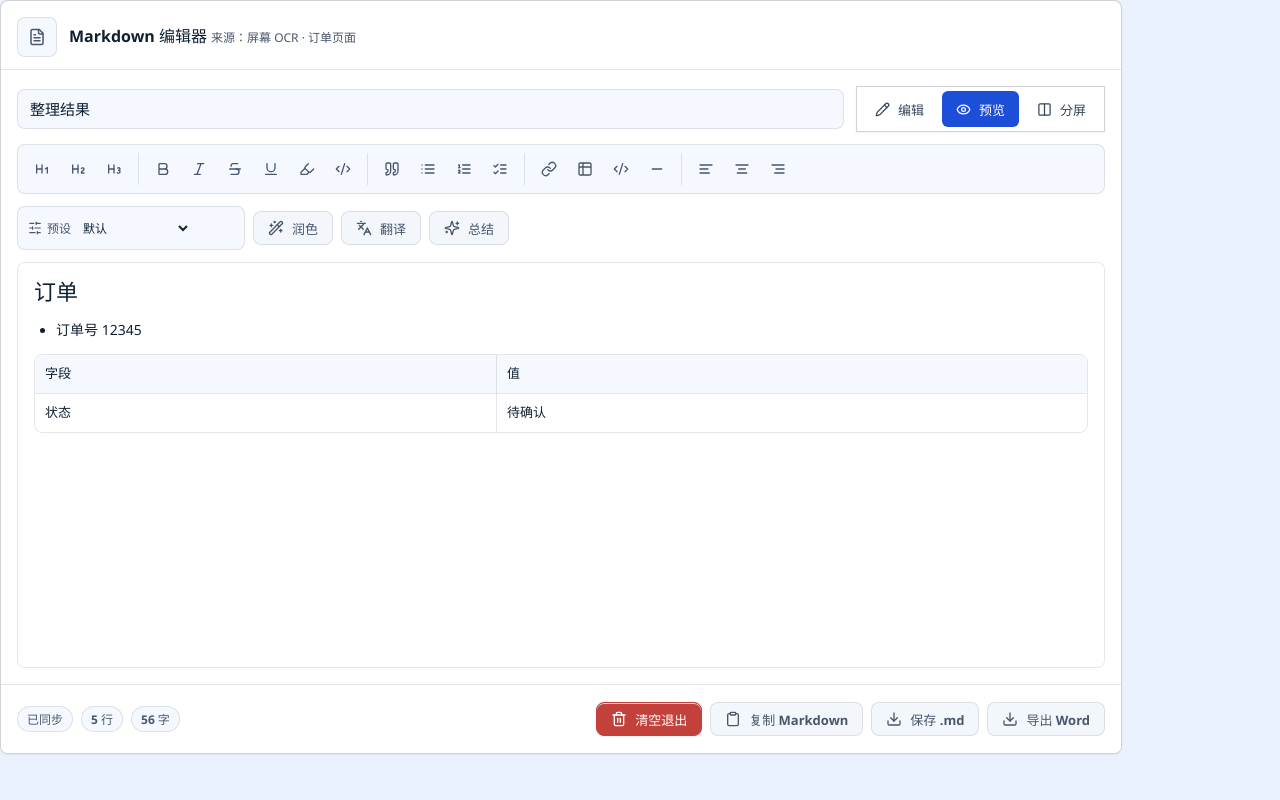
Test: MarkdownEditorShell › uses a centered in-app dialog before clearing and closing the current draft
This screenshot has width=1280, height=800.
Click the button "清空退出". click: (649, 719)
box: [596,702,702,736]
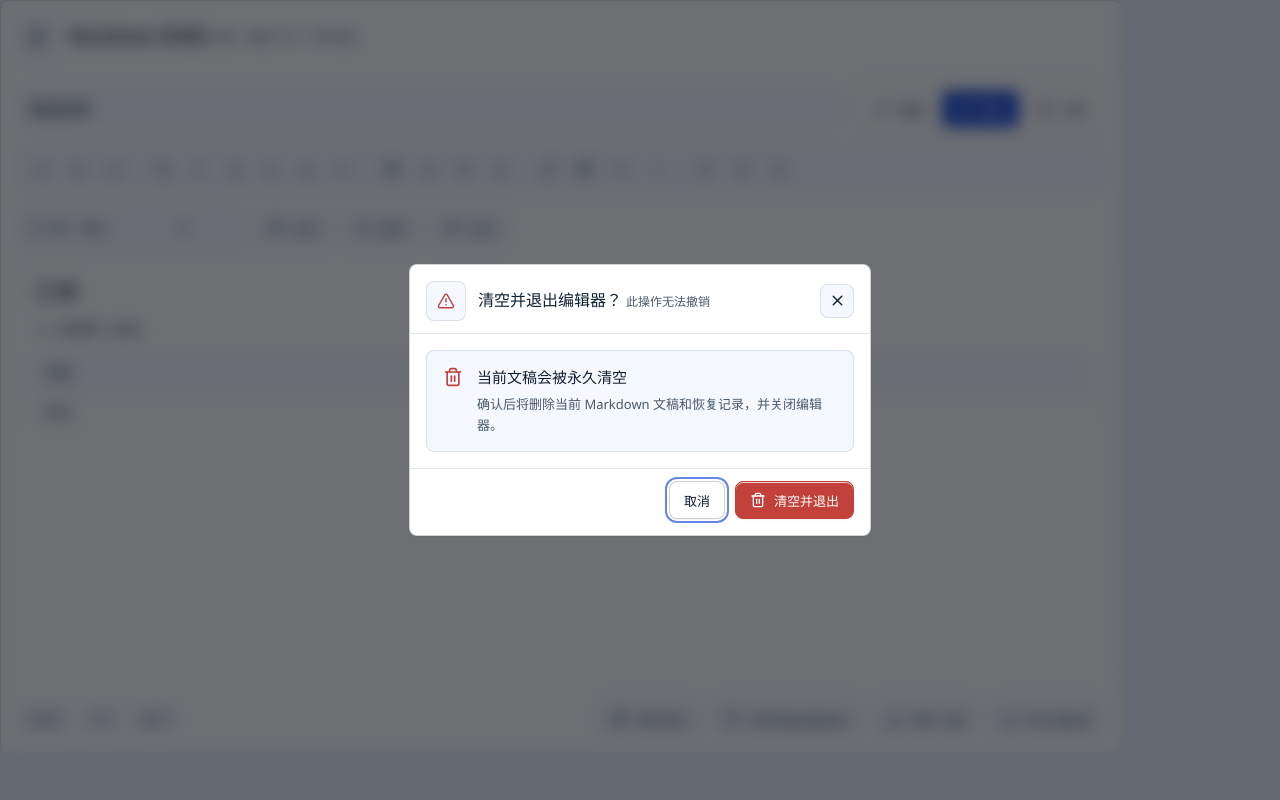
Result: the text "当前文稿会被永久清空" is shown at [477,368,627,388]
Click the button "取消". click: (697, 500)
box: [669,481,725,519]
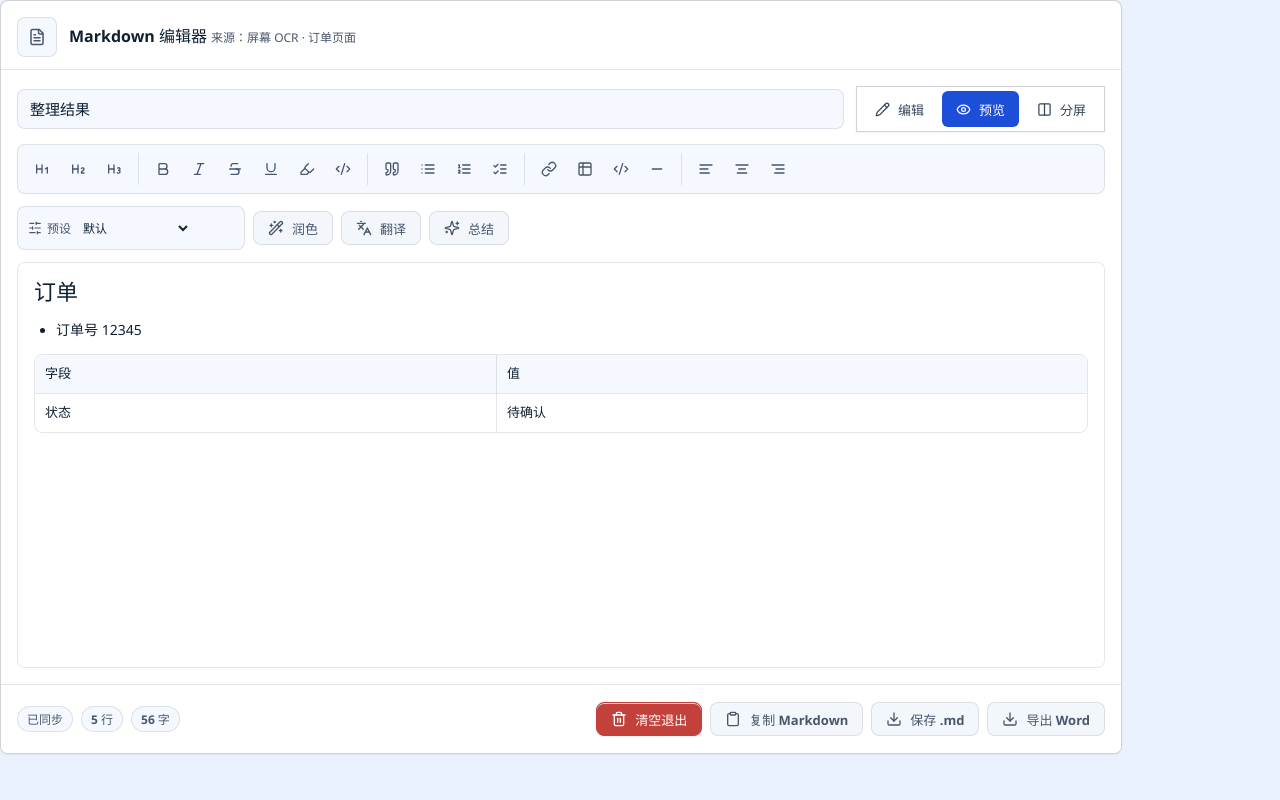
Result: the text "清空并退出编辑器？" is gone
Click the button "清空退出". click: (649, 719)
box: [596,702,702,736]
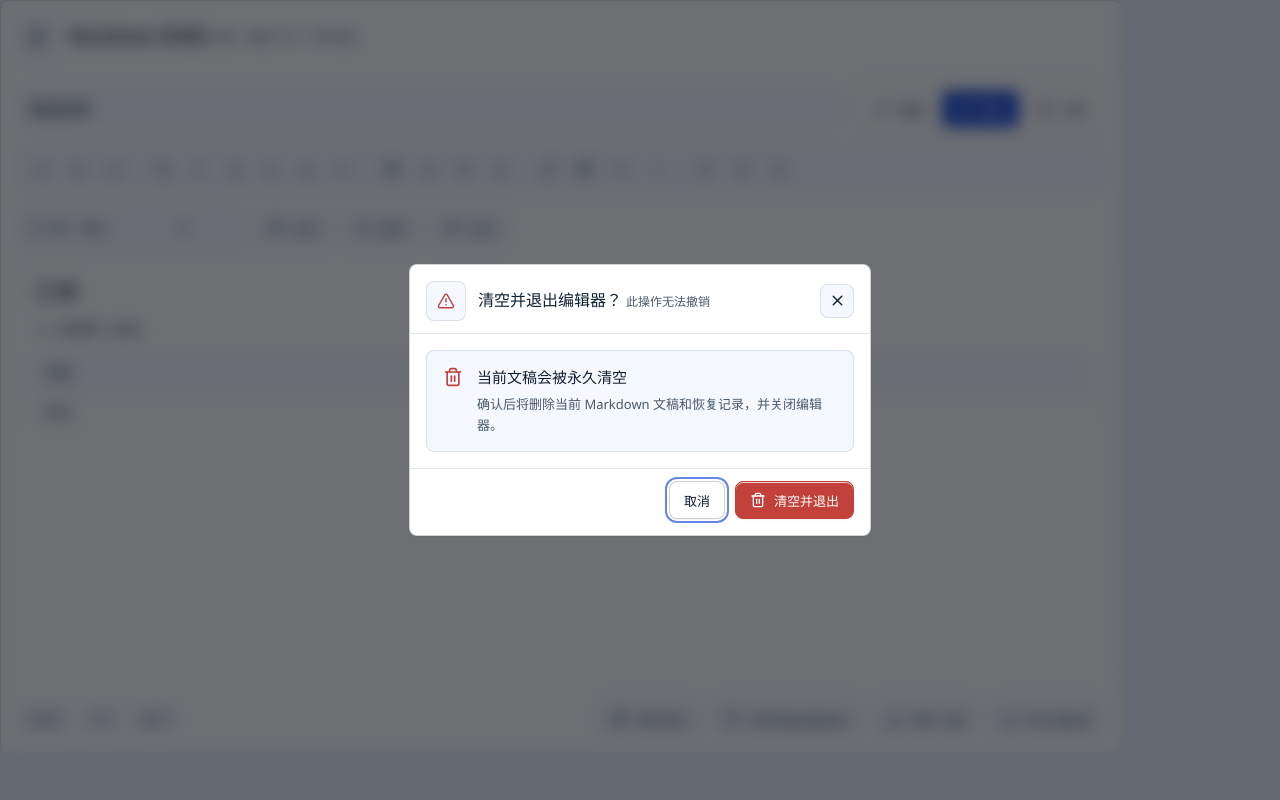
Click the button "清空并退出". click: (794, 500)
box: [735,481,854,519]
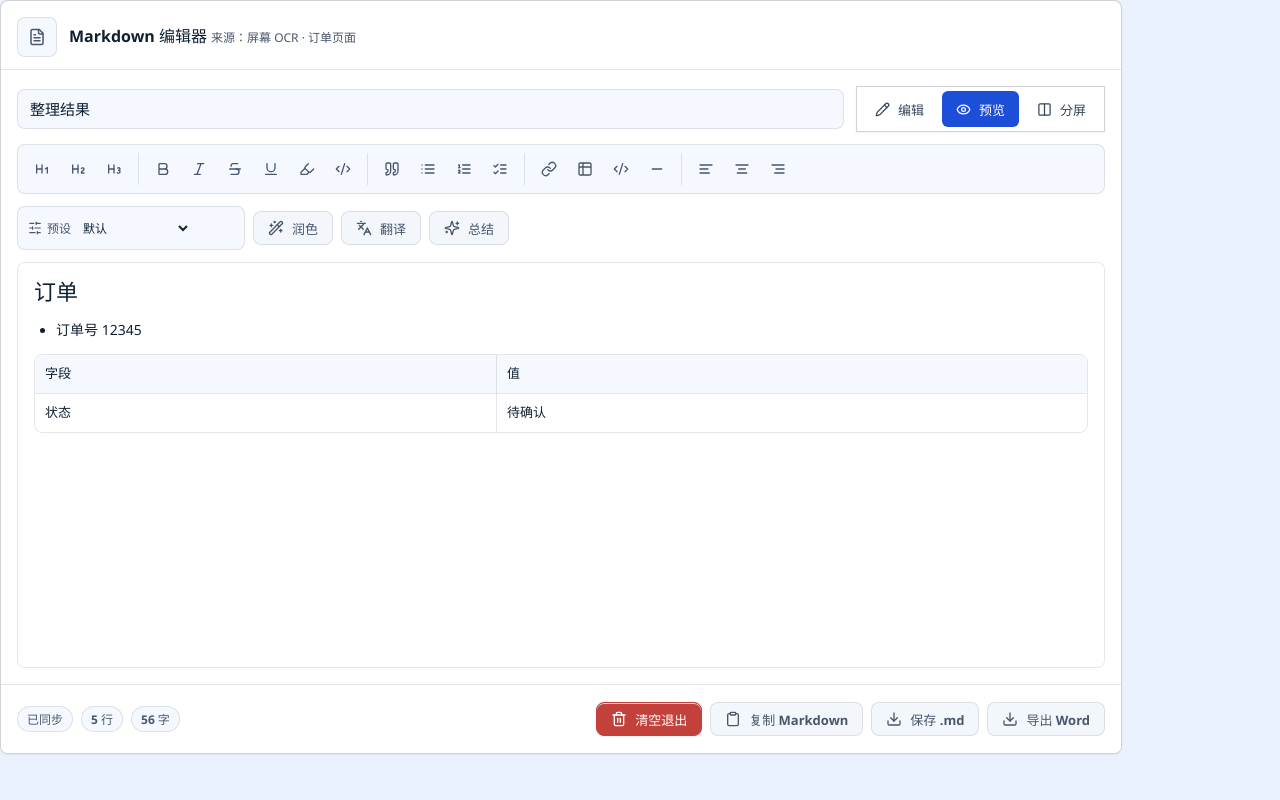
Result: the text "清空并退出编辑器？" is gone
